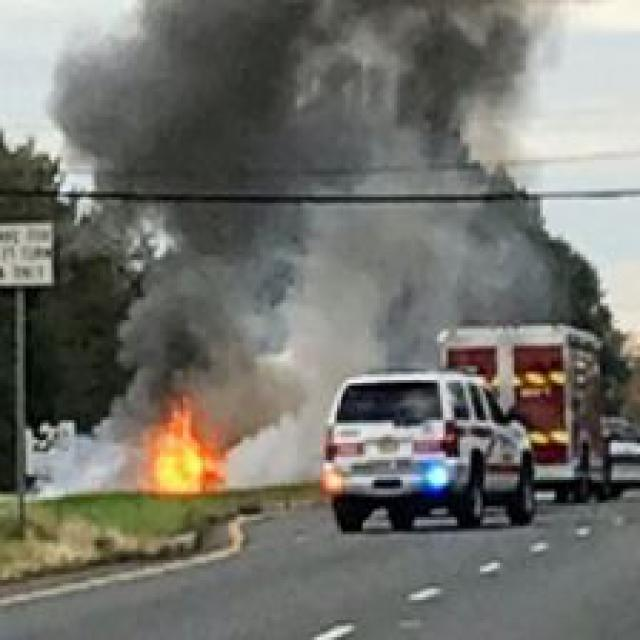fire: (132, 383, 228, 506)
